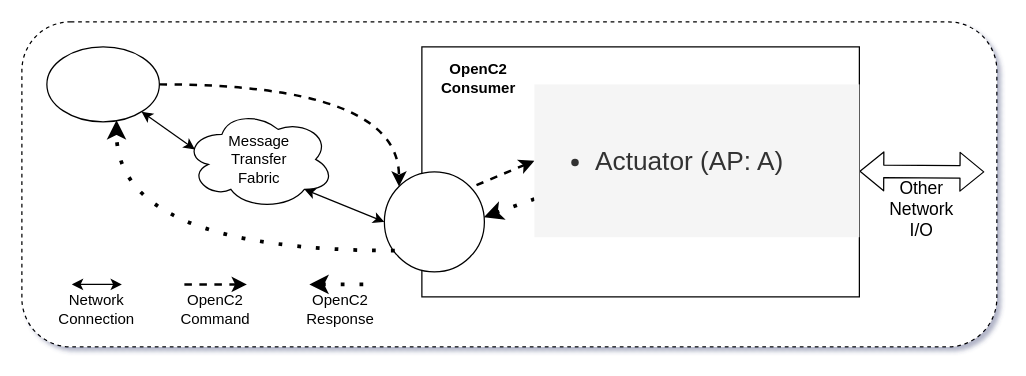
Image size: 1026x376. Some labels were removed from this diagram. The box of each missing label's shape, as (x1, y1, x2, y2) in pixels:
Device C2 I/F: (383, 171, 484, 272)
OpenC2 Producer: (46, 46, 159, 122)
